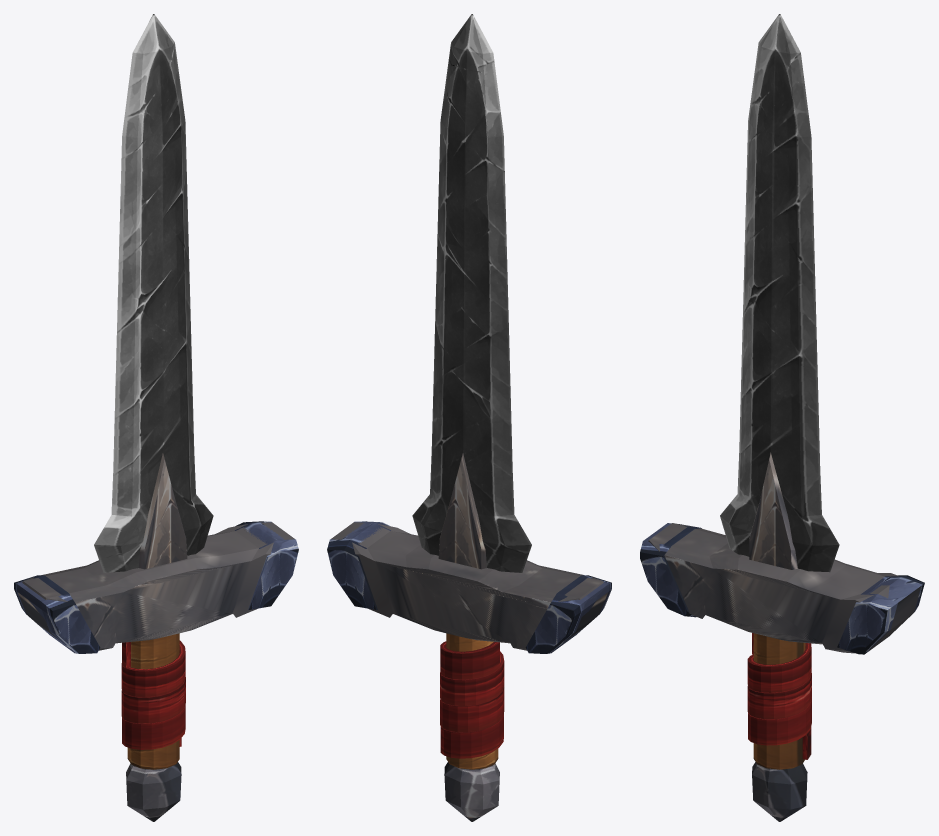
File: asset.glb
3 views of the same model, side by side, from view 1: azimuth 30°, elevation 25°; view 2: azimuth 150°, elevation 25°; view 3: azimuth 330°, elevation 25° (orthographic).
Parts seen in each view (by area): view 1: Blade, GuardContour, Wrap, GuardLanget, GuardTipLower, GuardTipUpper, Pommel, Grip; view 2: Blade, GuardContour, Wrap, GuardLanget, GuardTipLower, GuardTipUpper, Pommel, Grip; view 3: Blade, GuardContour, Wrap, GuardTipUpper, GuardLanget, Pommel, Grip, GuardTipLower.
Part boxes in pixels (x1=…): Blade: x1=94, y1=14, x2=213, y2=572; GuardContour: x1=18, y1=522, x2=294, y2=650; Wrap: x1=121, y1=640, x2=185, y2=749; GuardLanget: x1=138, y1=453, x2=187, y2=569; GuardTipLower: x1=14, y1=575, x2=100, y2=653; GuardTipUpper: x1=235, y1=521, x2=298, y2=609; Pommel: x1=126, y1=762, x2=181, y2=821; Grip: x1=127, y1=633, x2=179, y2=769; Blade: x1=412, y1=14, x2=531, y2=572; GuardContour: x1=331, y1=522, x2=607, y2=650; Wrap: x1=440, y1=641, x2=504, y2=758; GuardLanget: x1=438, y1=453, x2=486, y2=569; GuardTipLower: x1=525, y1=575, x2=611, y2=653; GuardTipUpper: x1=327, y1=521, x2=390, y2=609; Pommel: x1=444, y1=762, x2=499, y2=821; Grip: x1=446, y1=633, x2=498, y2=769; Blade: x1=720, y1=14, x2=839, y2=572; GuardContour: x1=648, y1=523, x2=921, y2=653; Wrap: x1=747, y1=633, x2=811, y2=759; GuardTipUpper: x1=837, y1=575, x2=924, y2=654; GuardLanget: x1=749, y1=452, x2=797, y2=569; Pommel: x1=752, y1=762, x2=807, y2=821; Grip: x1=753, y1=633, x2=805, y2=769; GuardTipLower: x1=640, y1=523, x2=701, y2=617.
Size of the model in its own units: 0.7228 by 2.19 by 0.19.
8 materials, 8 textured.
